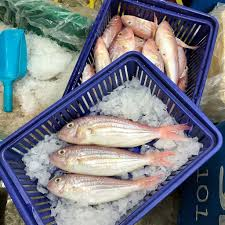Ikan Kerisi: (48, 114, 188, 150), (37, 170, 156, 208), (45, 143, 175, 172)
